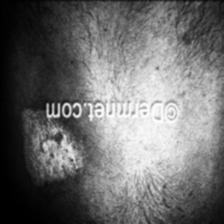Non-Cancerous Skin Condition: (12, 123, 80, 192)
